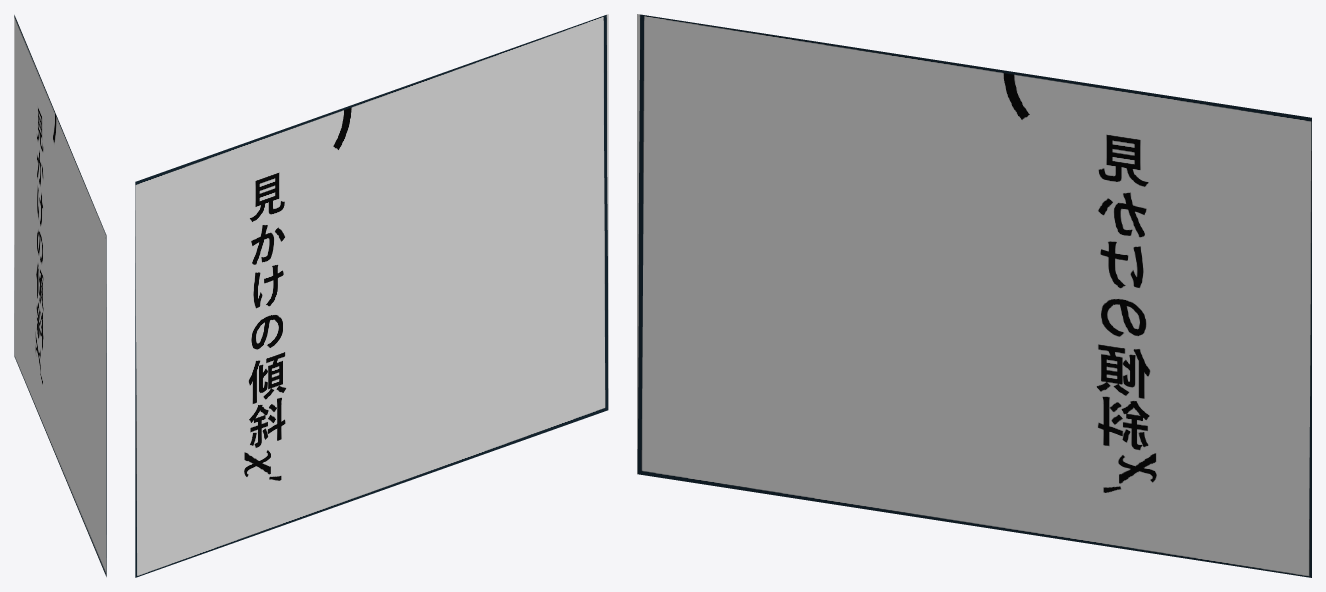
Rendered from westdansougazou.glb.
3 views of the same model, side by side, from view 1: azimuth 30°, elevation 25°; view 2: azimuth 150°, elevation 25°; view 3: azimuth 270°, elevation 25° (orthographic). The views are drawn at different scales.
Visible parts, largest first — view 1: westdansougazou; view 2: westdansougazou; view 3: westdansougazou.
Part boxes in pixels (x1,y1,x2,y2): westdansougazou: (14, 15, 106, 576); westdansougazou: (135, 14, 608, 577); westdansougazou: (637, 14, 1311, 577).
Bounding box in the file's own units: 1.67 × 3.46 × 4.59.
1 material, 1 textured.
